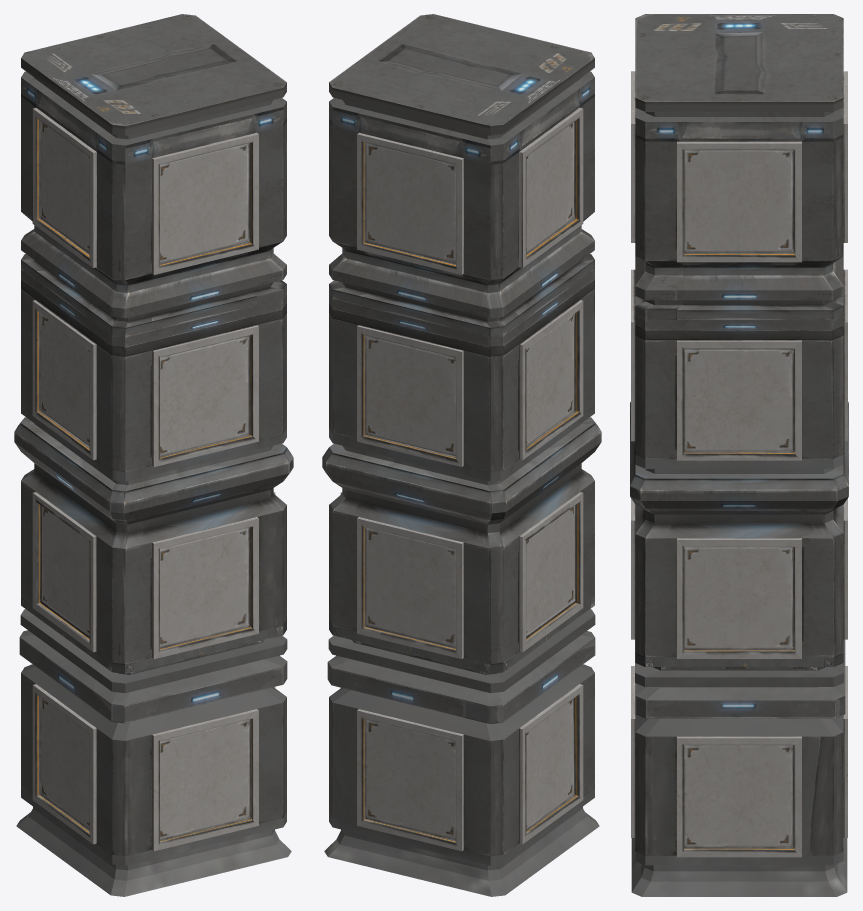
File: Colunatexturada.fbx
3 views of the same model, side by side, from view 1: azimuth 30°, elevation 25°; view 2: azimuth 150°, elevation 25°; view 3: azimuth 270°, elevation 25° (orthographic). The views are drawn at different scales.
Parts seen in each view (by area): view 1: Cube.001; view 2: Cube.001; view 3: Cube.001.
Boxes of the visible parts, left/top/right/bottom form: Cube.001: left=14, top=14, right=293, bottom=896; Cube.001: left=322, top=14, right=601, bottom=896; Cube.001: left=630, top=14, right=848, bottom=896.
Bounding box in the file's own units: 100 × 400 × 100.
